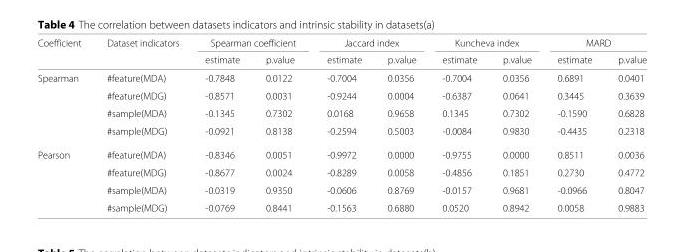table: (36, 36, 646, 213)
table column: (93, 36, 191, 213), (310, 36, 373, 213), (191, 36, 252, 213), (428, 36, 489, 213), (543, 36, 604, 213), (252, 36, 310, 213), (36, 36, 93, 213), (373, 36, 428, 213), (489, 36, 543, 213), (604, 36, 646, 213)
table column header: (36, 36, 646, 68)
table row: (36, 121, 646, 142), (36, 142, 646, 163), (36, 50, 646, 68), (36, 68, 646, 86), (36, 86, 646, 104), (36, 180, 646, 198), (36, 104, 646, 121), (36, 163, 646, 180), (36, 198, 646, 213), (36, 36, 646, 50)
table spanning cell: (36, 68, 93, 142), (36, 142, 93, 213), (93, 36, 191, 68), (36, 36, 93, 68), (191, 36, 310, 50), (310, 36, 428, 50), (428, 36, 543, 50), (543, 36, 646, 50)
